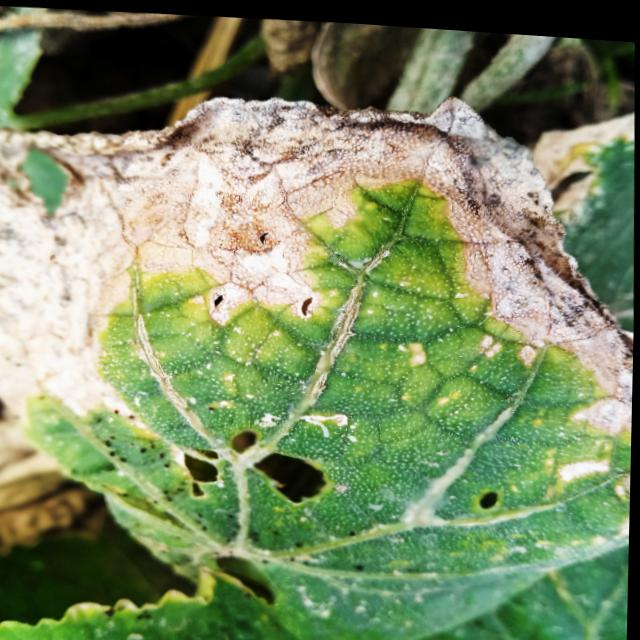Gummy-Stem-Blight: (0, 60, 639, 462)
